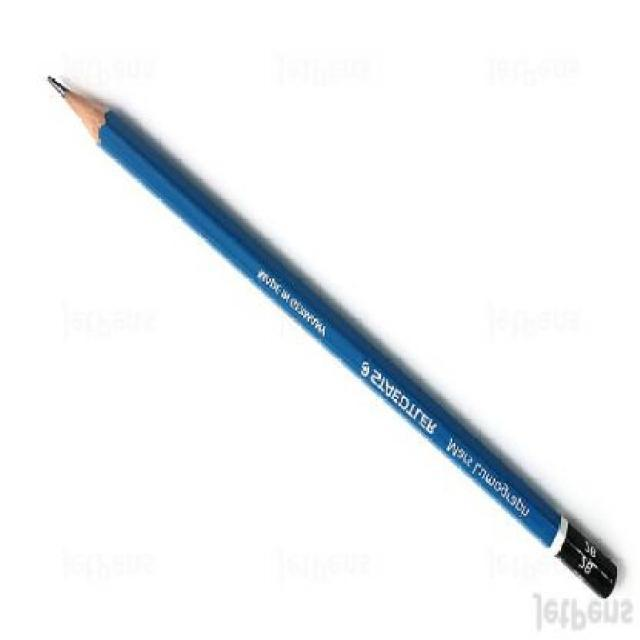pencil: (36, 62, 130, 166)
